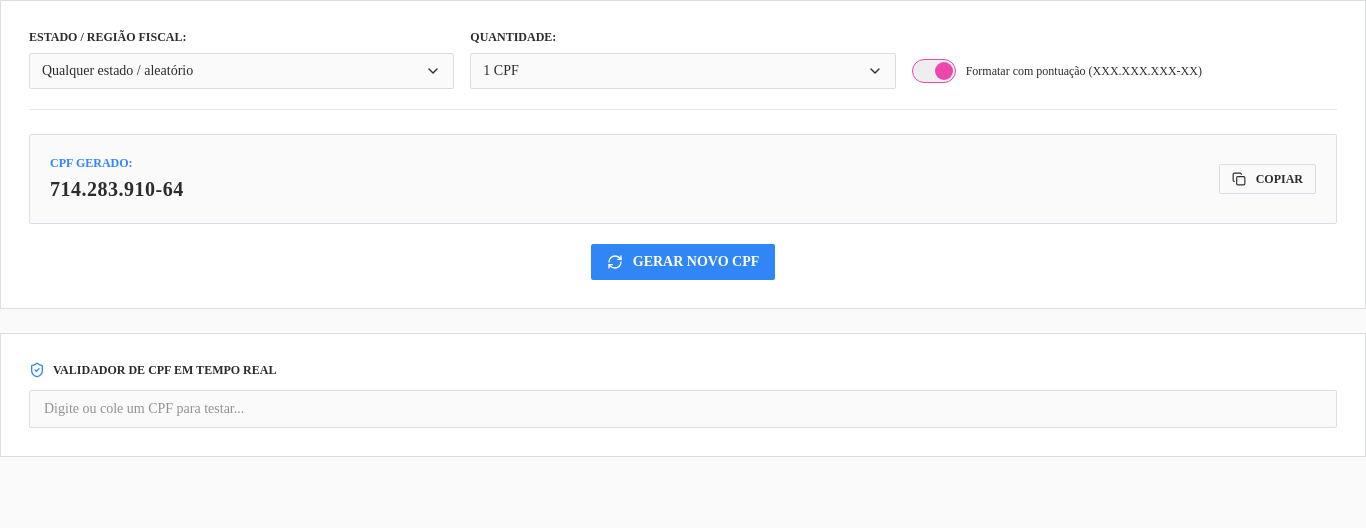
Test: AppCpfGenerator Component › validates input CPF in real time
The width and height of the screenshot is (1366, 528).
Type "111.111.111-11" into the field with placeholder "Digite ou cole um CPF para testar..." at (683, 409), box [29,390,1337,428]
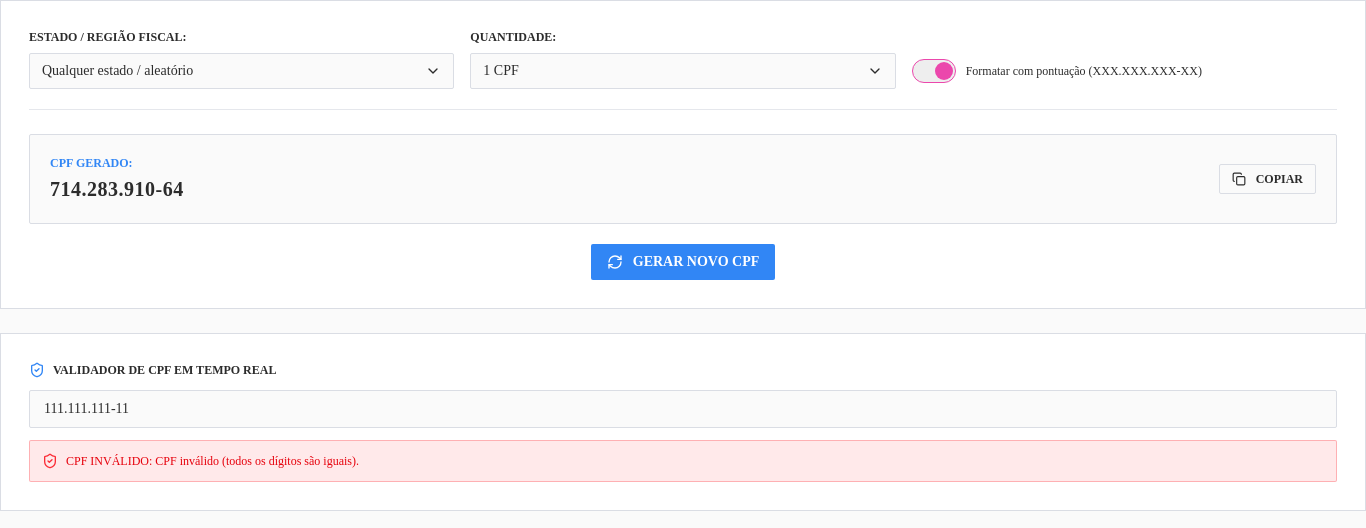
Check: the text "CPF INVÁLIDO: CPF inválido (todos os dígitos são iguais)." is shown, box [66,453,359,469]
